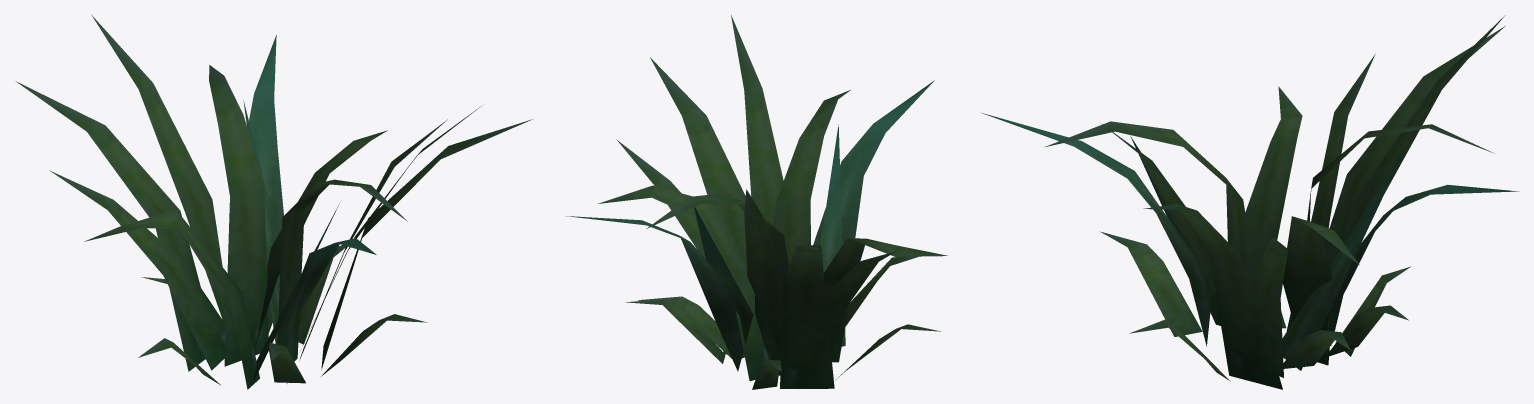
The model's file is Moba_xiaocao.FBX.
The picture shows the model from 3 angles, left to right: view 1: azimuth 30°, elevation 25°; view 2: azimuth 150°, elevation 25°; view 3: azimuth 270°, elevation 25°; orthographic projection. The views are drawn at different scales.
Parts seen in each view (by area): view 1: Moba_xiaocao; view 2: Moba_xiaocao; view 3: Moba_xiaocao.
Boxes of the visible parts, box(x1,y1,x2,y2) form: Moba_xiaocao: box(15, 14, 532, 389); Moba_xiaocao: box(566, 15, 947, 389); Moba_xiaocao: box(980, 15, 1519, 389).
Bounding box in the file's own units: 33.25 × 37.38 × 23.65.
